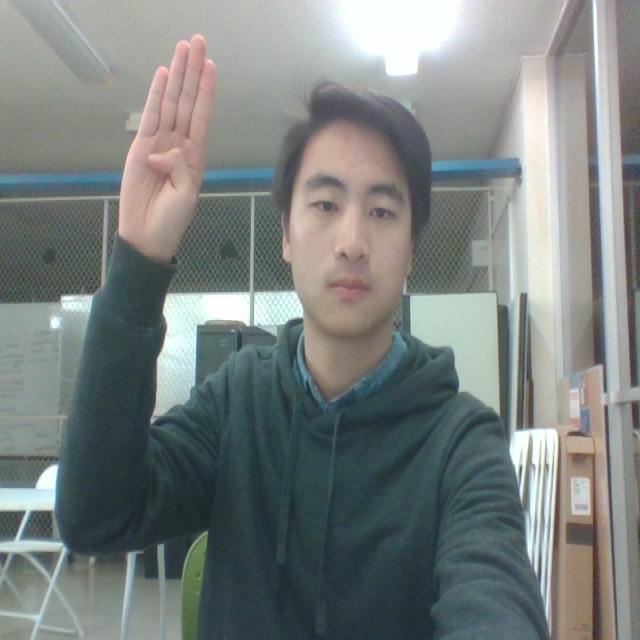B: (116, 18, 242, 271)
